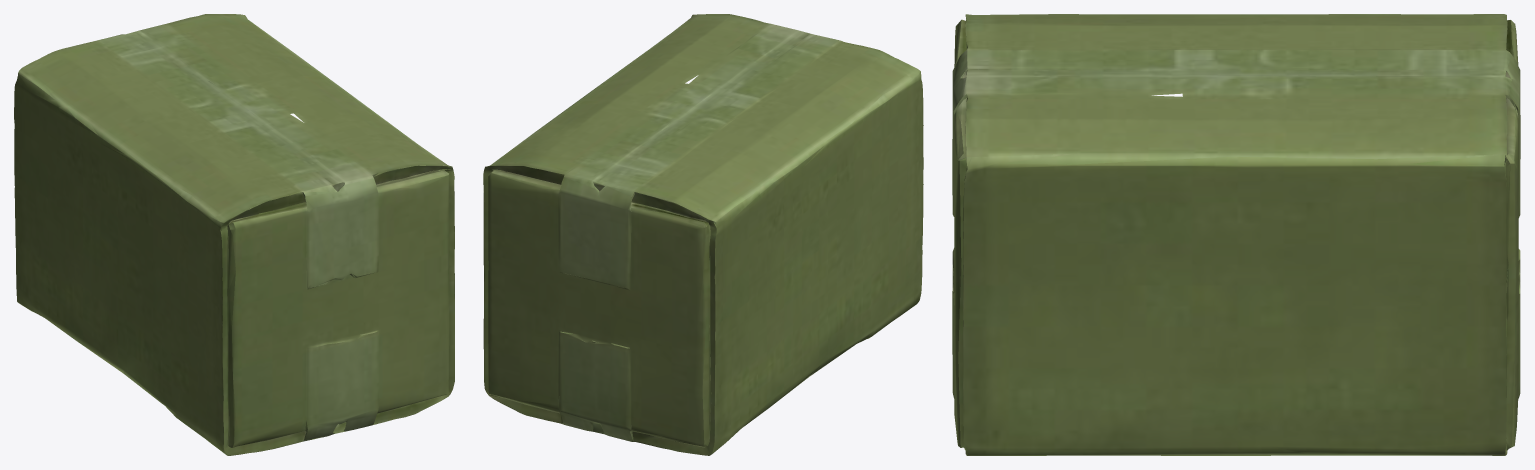
Rendered from ammo_rifle.glb.
3 views of the same model, side by side, from view 1: azimuth 30°, elevation 25°; view 2: azimuth 150°, elevation 25°; view 3: azimuth 270°, elevation 25° (orthographic). The views are drawn at different scales.
Visible parts, largest first — view 1: model; view 2: model; view 3: model.
Part boxes in pixels (bbox=[...]): model: bbox=[14, 14, 454, 455]; model: bbox=[483, 14, 923, 455]; model: bbox=[952, 14, 1520, 455].
Bounding box in the file's own units: 0.3094 × 0.3189 × 0.5.
1 material, 1 textured.
